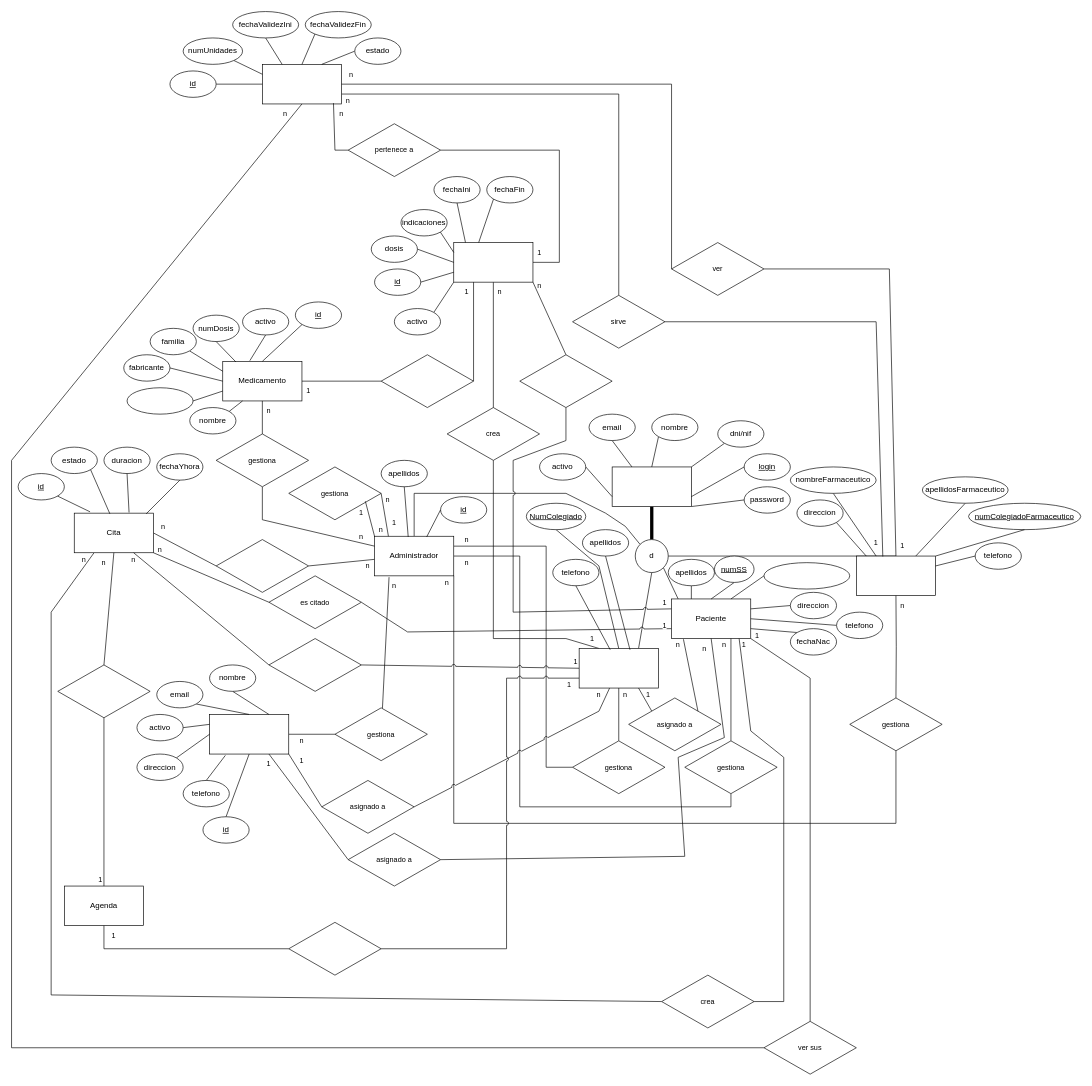
Some shapes in this 1092 by 1086 pixel diagram are drawn without their labels. Here are the shapes that lost their labels. From the top down, the centre of each, then its label:
At pixel 302 84: "Receta".
At pixel 493 262: "Prescripción".
At pixel 159 400: "principioActivo".
At pixel 427 381: "es prescrito".
At pixel 565 381: "le pertenece".
At pixel 651 486: "Usuario".
At pixel 262 565: "gestiona manual".
At pixel 806 575: "numTarjetaSanitaria".
At pixel 896 575: "Farmacia".
At pixel 314 664: "atiende".
At pixel 618 668: "Medico".
At pixel 103 691: "contiene".
At pixel 249 734: "Centro de salud".
At pixel 334 948: "tiene".
